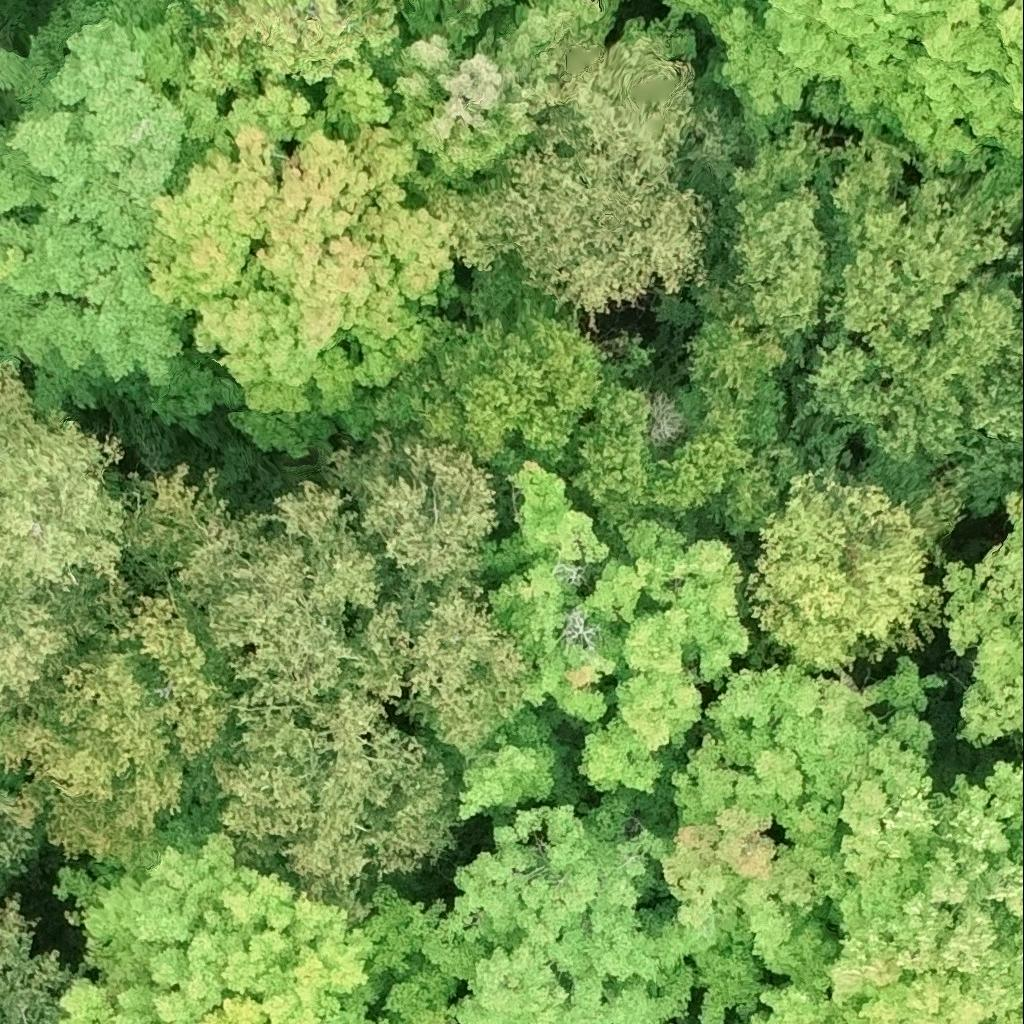crown: (642, 655, 931, 1023), (486, 463, 746, 793), (52, 826, 456, 1023), (216, 596, 456, 902), (751, 755, 1023, 1023), (117, 457, 393, 702), (0, 576, 231, 868), (432, 803, 689, 1023), (0, 360, 126, 699), (320, 425, 495, 598), (394, 599, 526, 757), (945, 493, 1023, 741), (456, 715, 560, 819)
